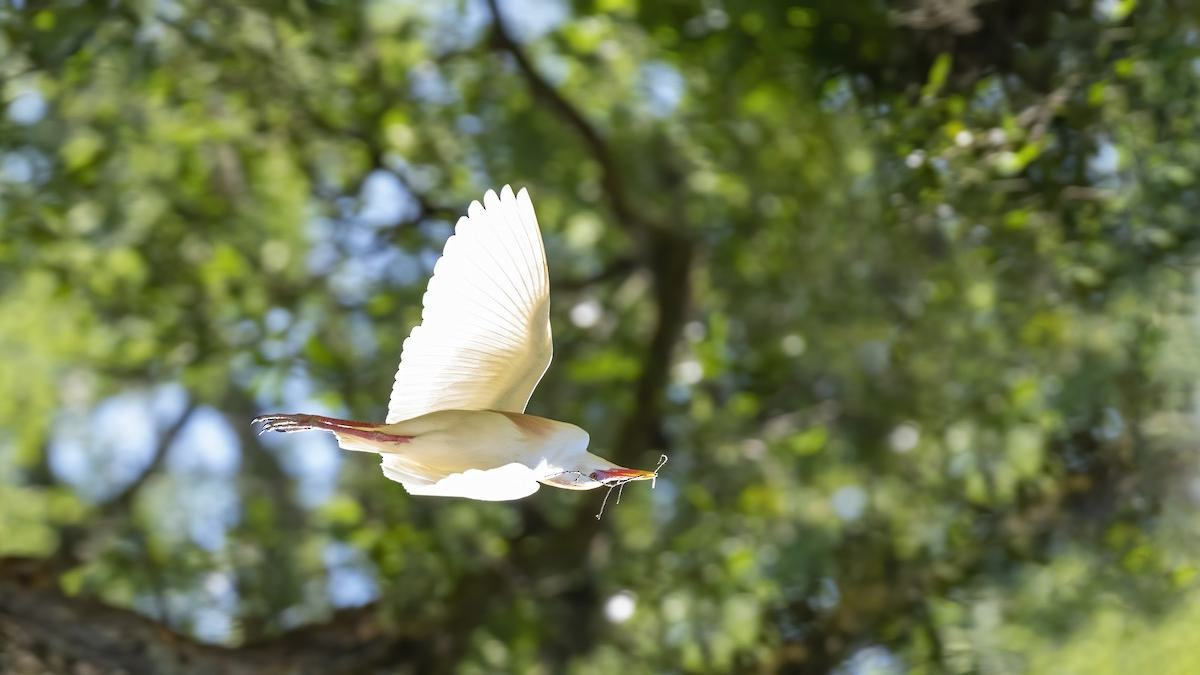egret: (264, 174, 703, 551)
